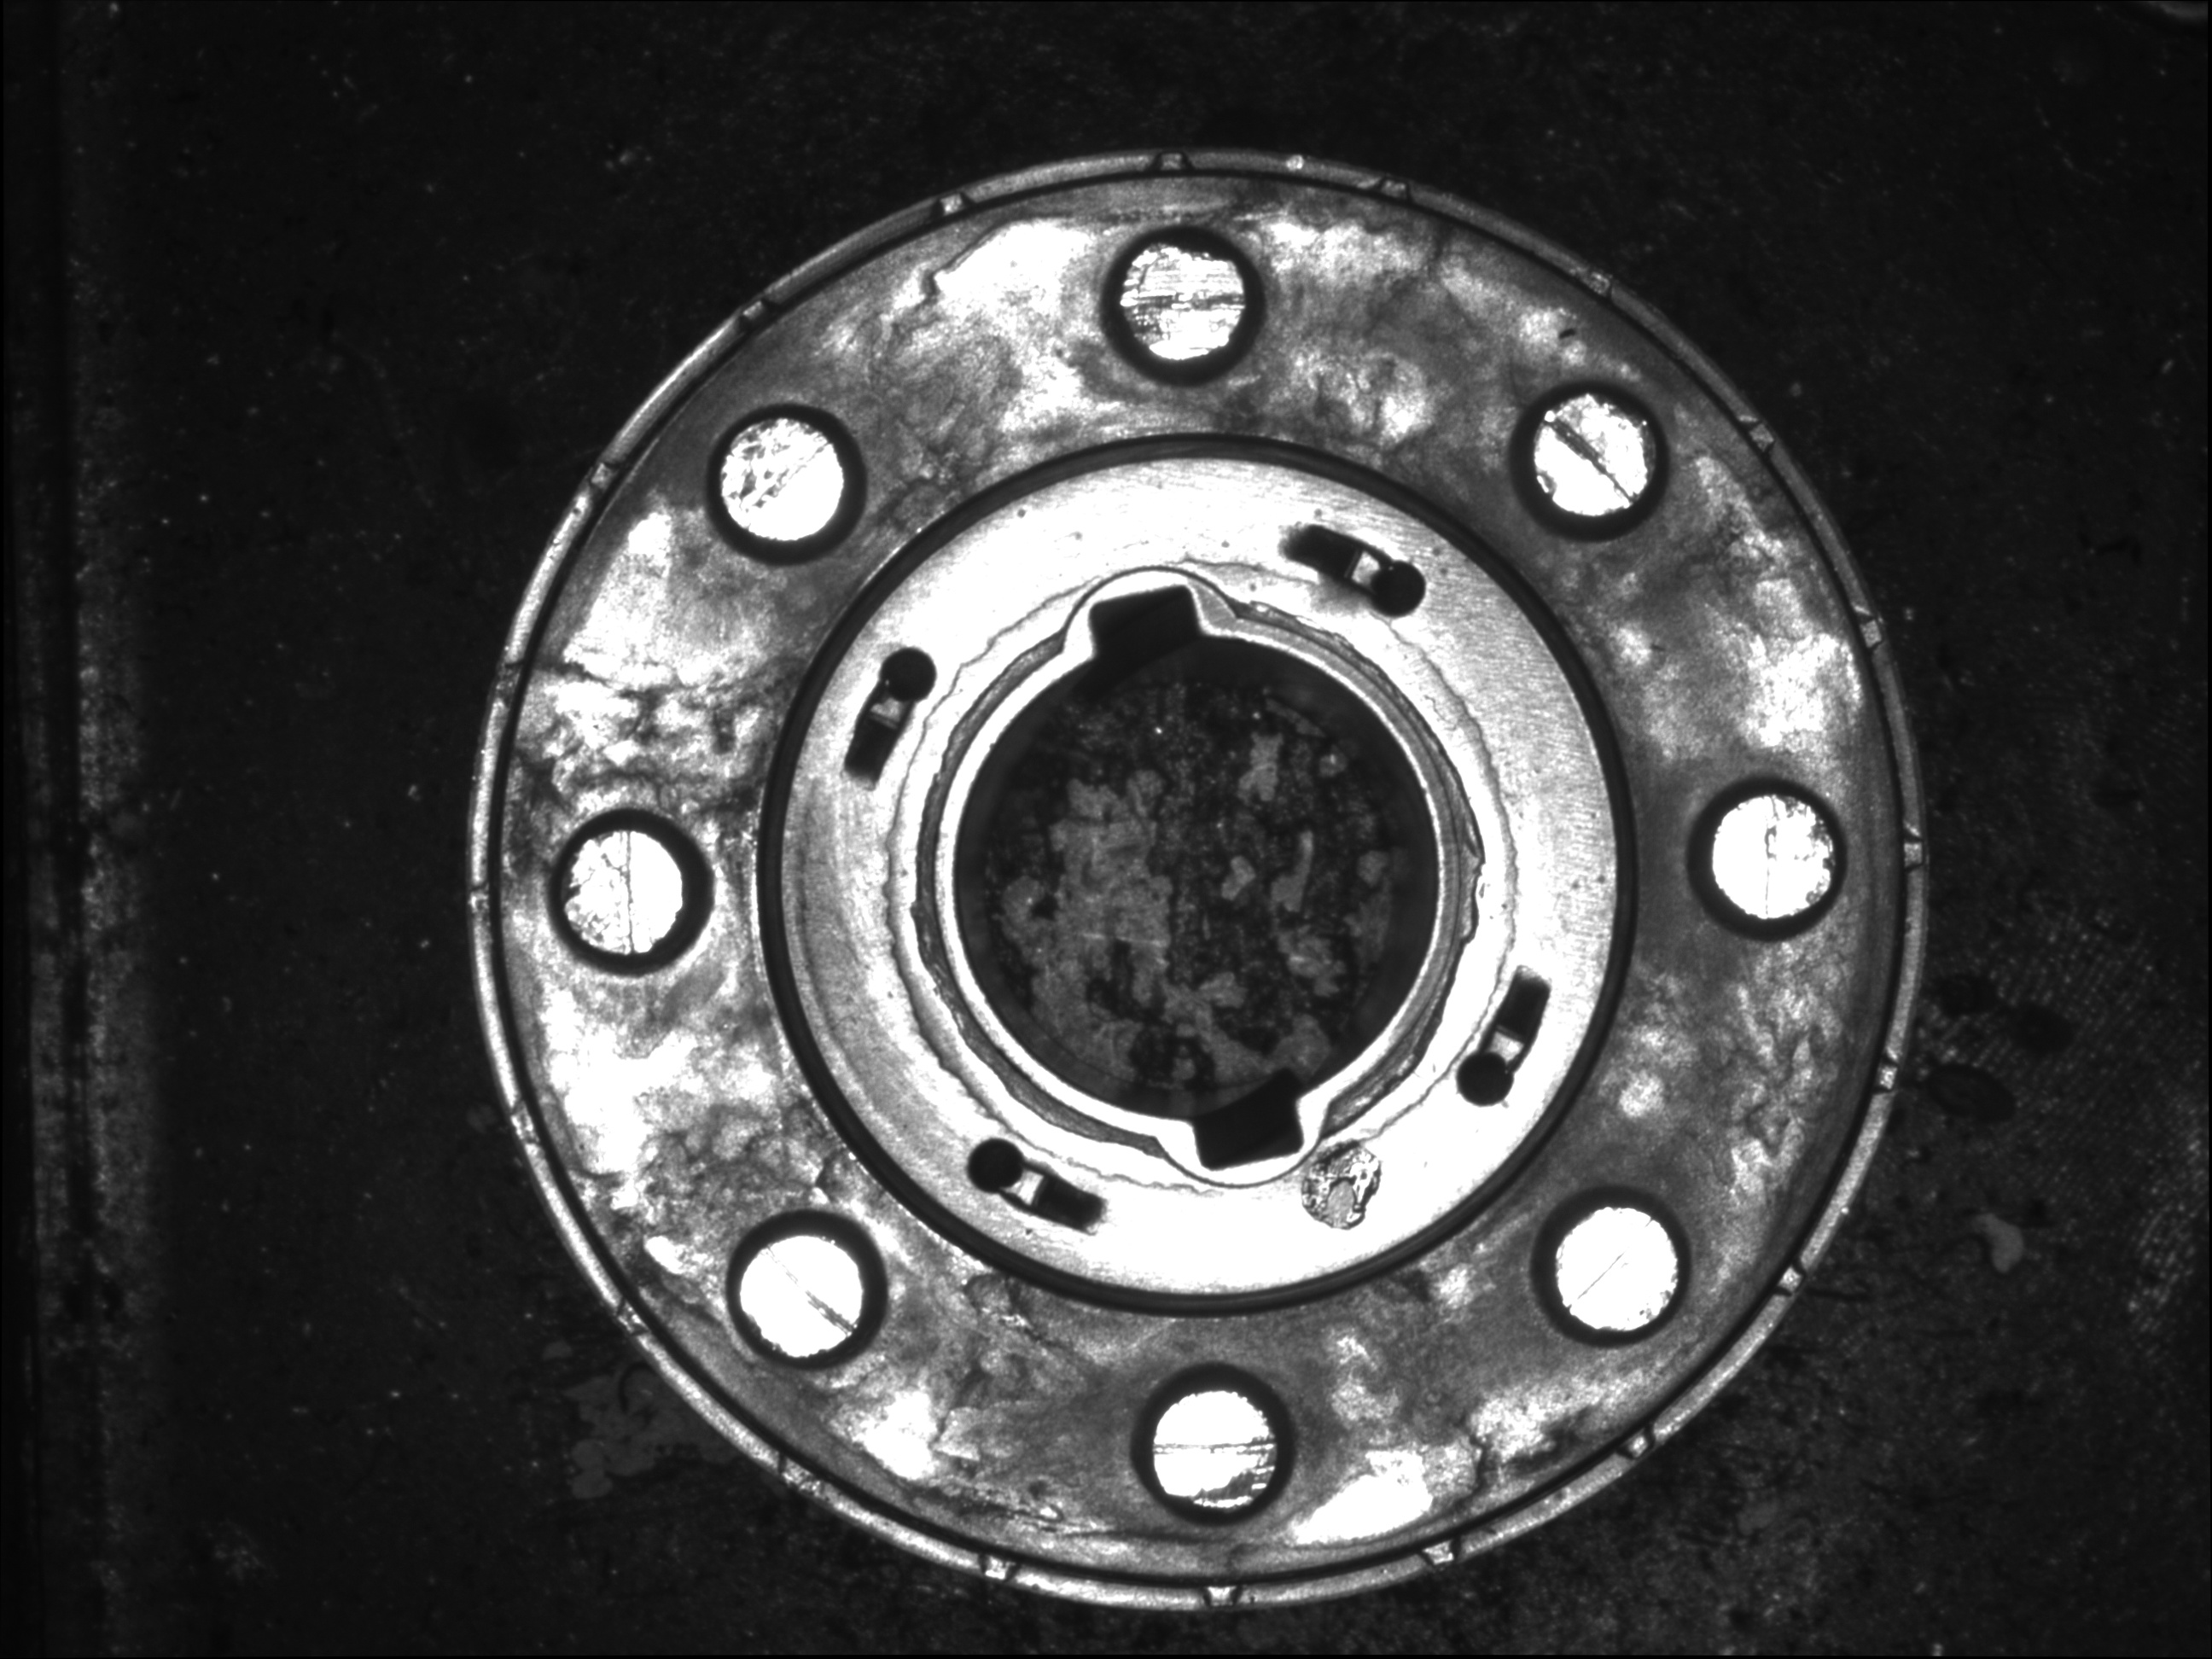tail: (1130, 1035, 1381, 1256), (1021, 519, 1271, 741)
